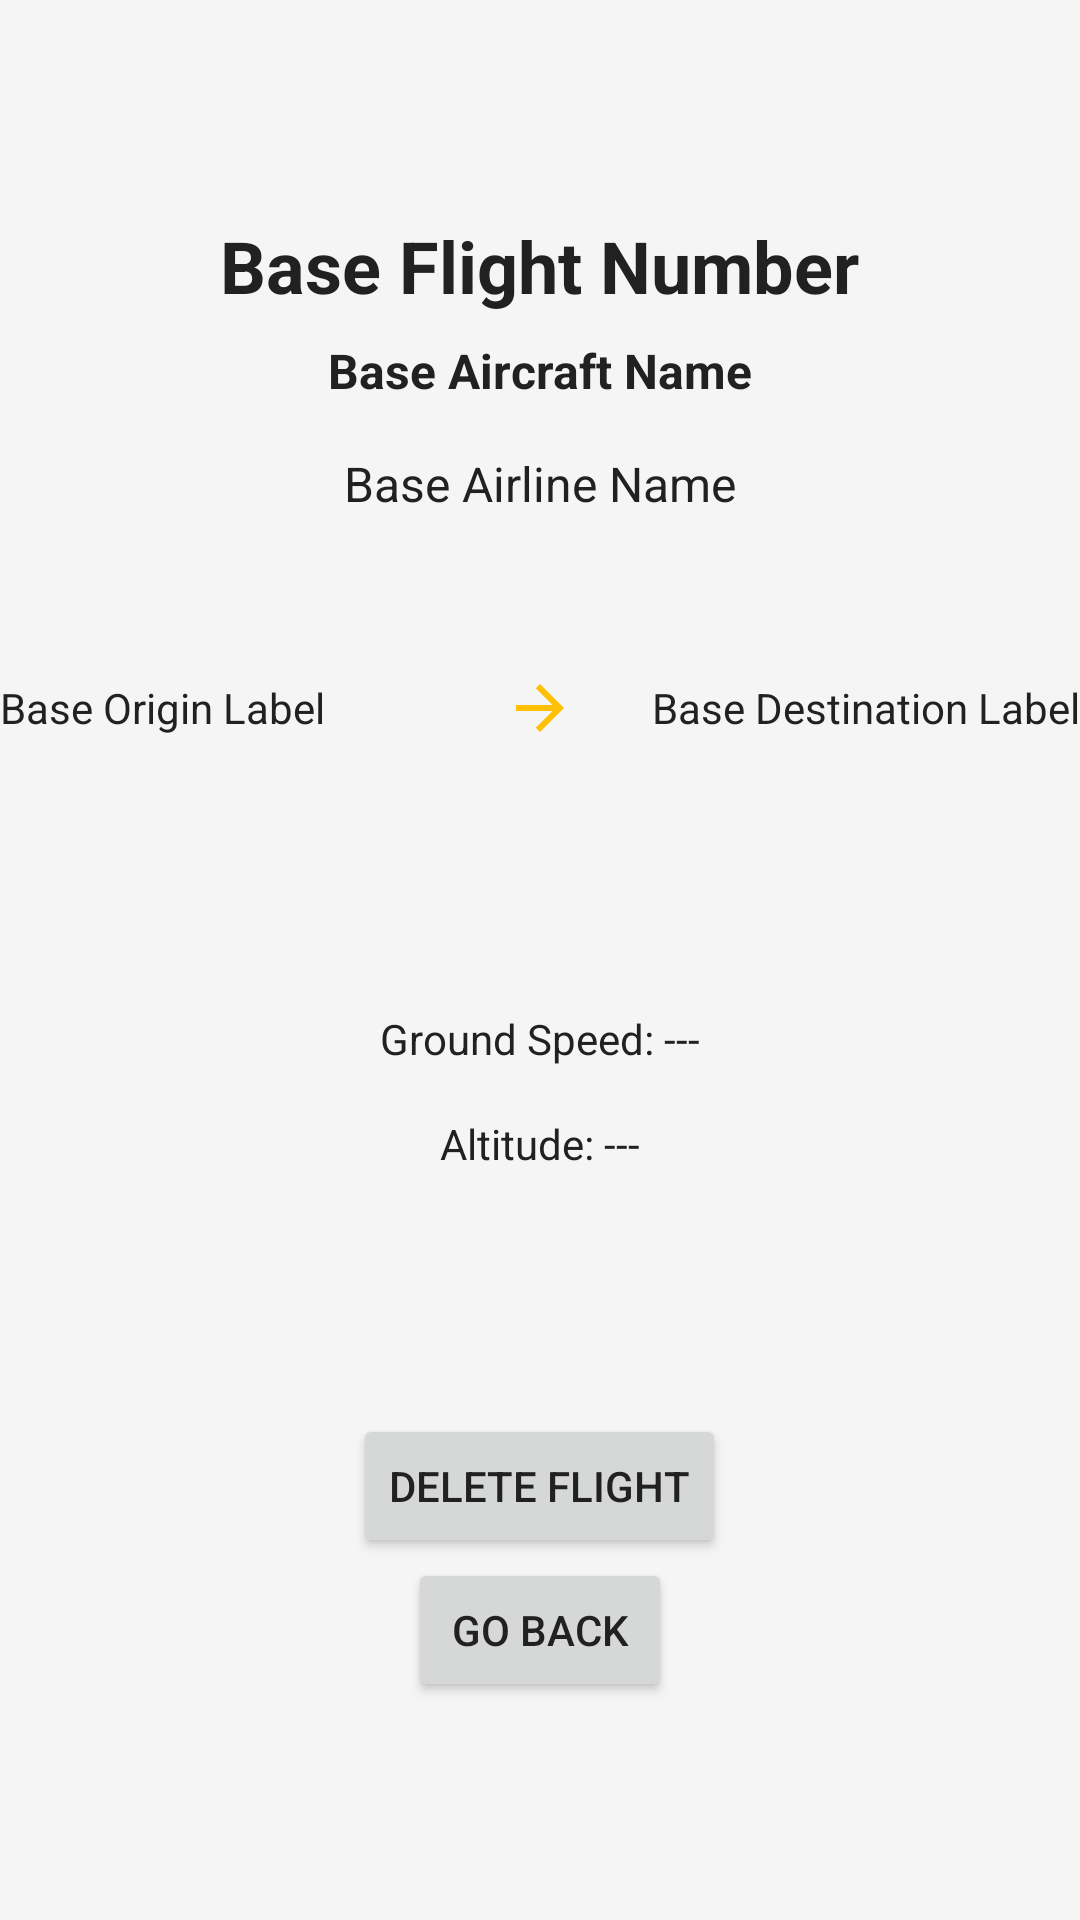

Icon bounding boxes for this 1080x1920 phone screenshot, format (x1, y1, x2, y2):
Arrow Icon: (516, 684, 564, 732)
